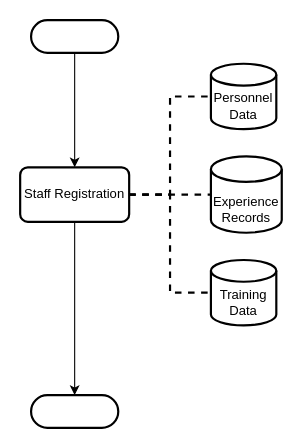
Some shapes in this 301 by 447 pixel diagram are drawn without their labels. Here are the shapes that lost their labels. From the top down, the centre of each, then its label:
At pixel 74 36: "START".
At pixel 74 410: "END".
